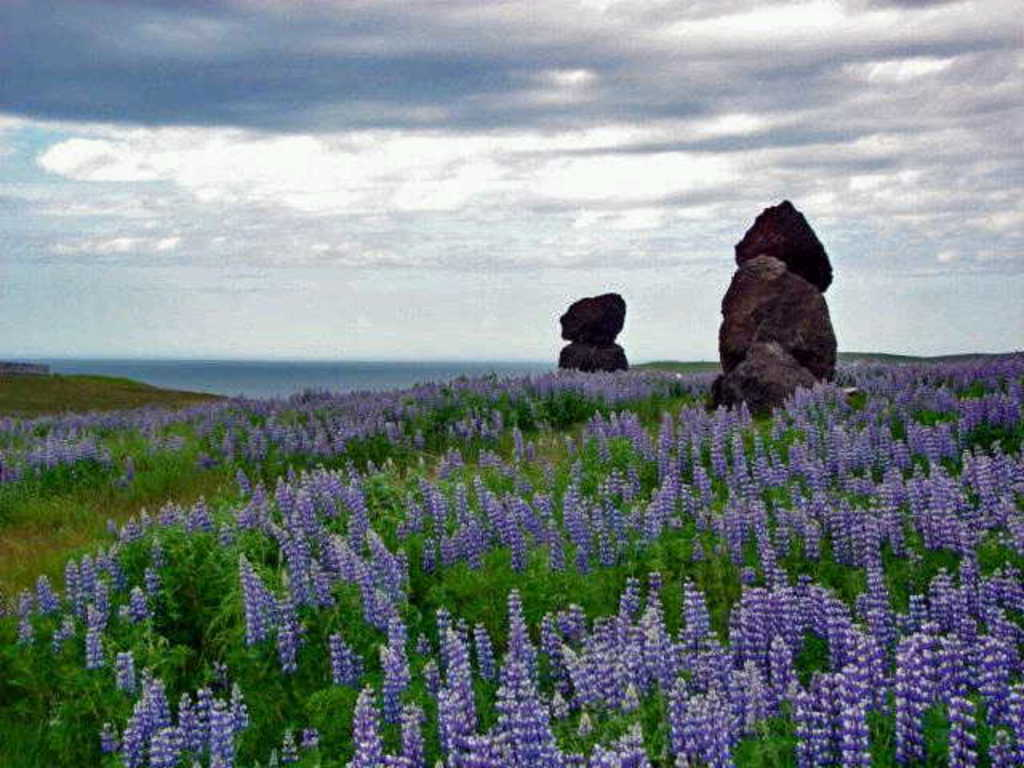person: (554, 289, 632, 372)
